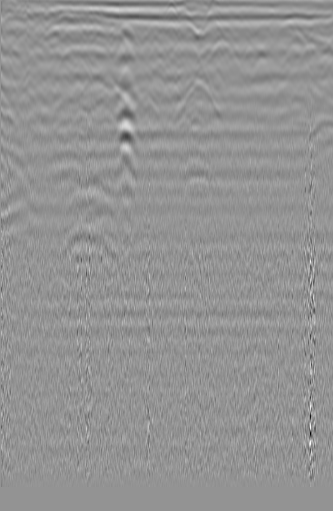상수: (289, 43, 318, 70)
오수: (3, 30, 43, 58)
우수: (134, 36, 168, 67)
